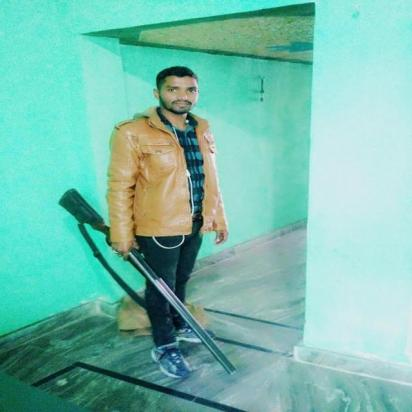Gun: (56, 187, 241, 377)
